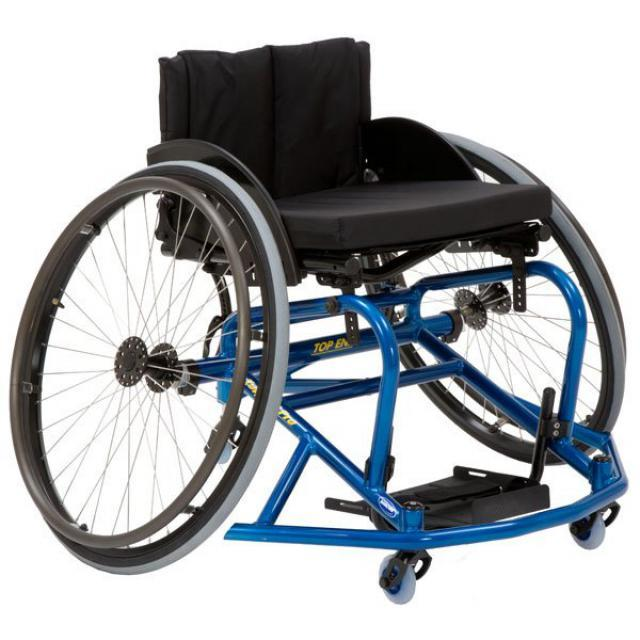wheelchair: (16, 24, 639, 602)
